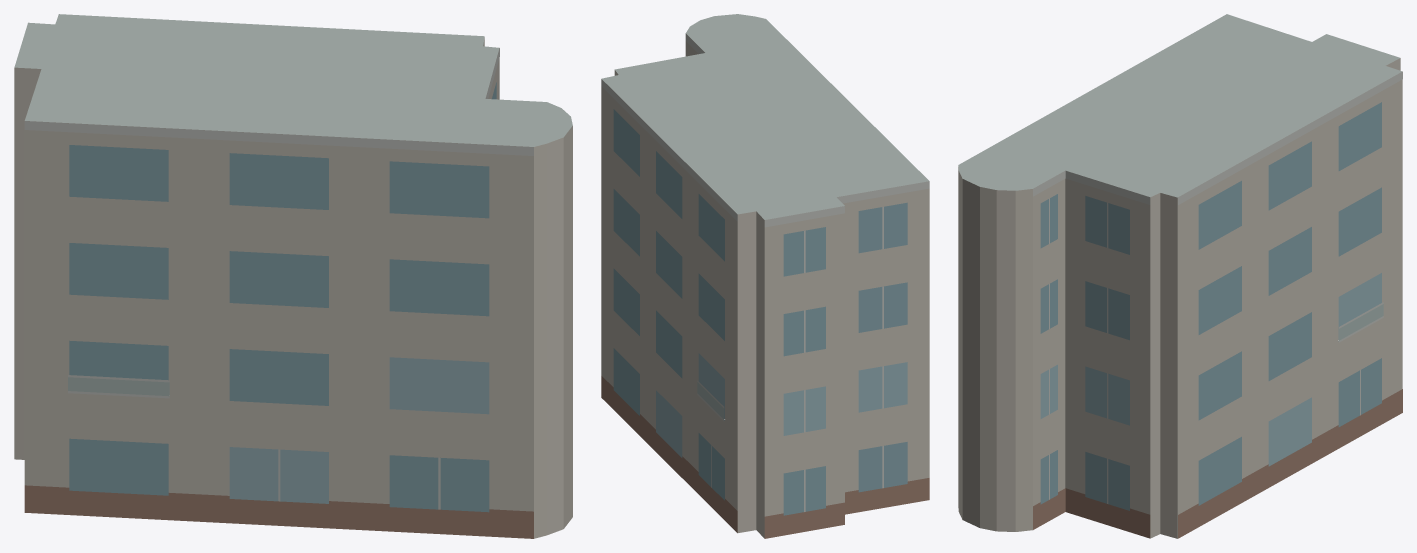
The model's file is survey-upis-32504589.glb.
3 renders of one model, left to right at view 1: azimuth 30°, elevation 25°; view 2: azimuth 150°, elevation 25°; view 3: azimuth 270°, elevation 25°, orthographic. The views are drawn at different scales.
Parts seen in each view (by area): view 1: survey-upis-32504589.tmp; view 2: survey-upis-32504589.tmp; view 3: survey-upis-32504589.tmp.
Boxes of the visible parts, x1,y1,x2,y2 form: survey-upis-32504589.tmp: (14, 14, 572, 538); survey-upis-32504589.tmp: (601, 14, 929, 538); survey-upis-32504589.tmp: (958, 14, 1402, 538).
Size of the model in its own units: 12.12 by 10.5 by 12.4.
